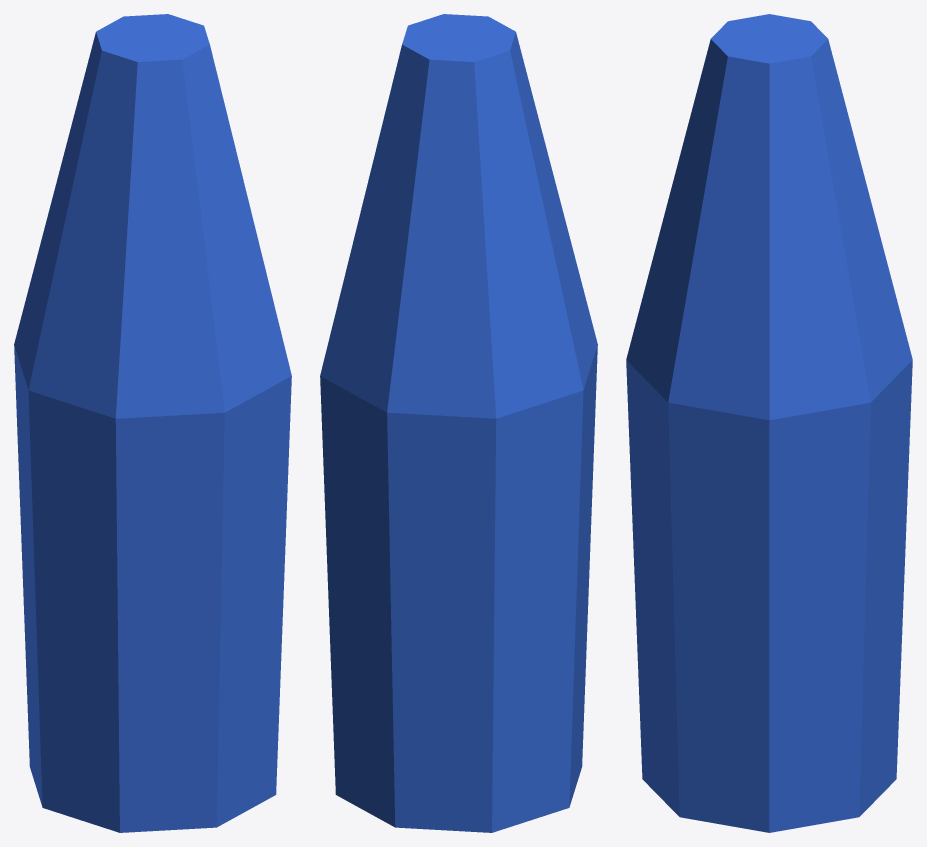
The model's file is Collision_Bottle_1.fbx.
The picture shows the model from 3 angles, left to right: view 1: azimuth 30°, elevation 25°; view 2: azimuth 150°, elevation 25°; view 3: azimuth 270°, elevation 25°; orthographic projection.
Visible parts, largest first — view 1: UCX_Bottle_1_1; view 2: UCX_Bottle_1_1; view 3: UCX_Bottle_1_1.
Part boxes in pixels (x1,y1,x2,y2): UCX_Bottle_1_1: (14, 14, 291, 832); UCX_Bottle_1_1: (320, 14, 597, 832); UCX_Bottle_1_1: (626, 14, 912, 832).
Bounding box in the file's own units: 12.81 × 36.51 × 12.81.
